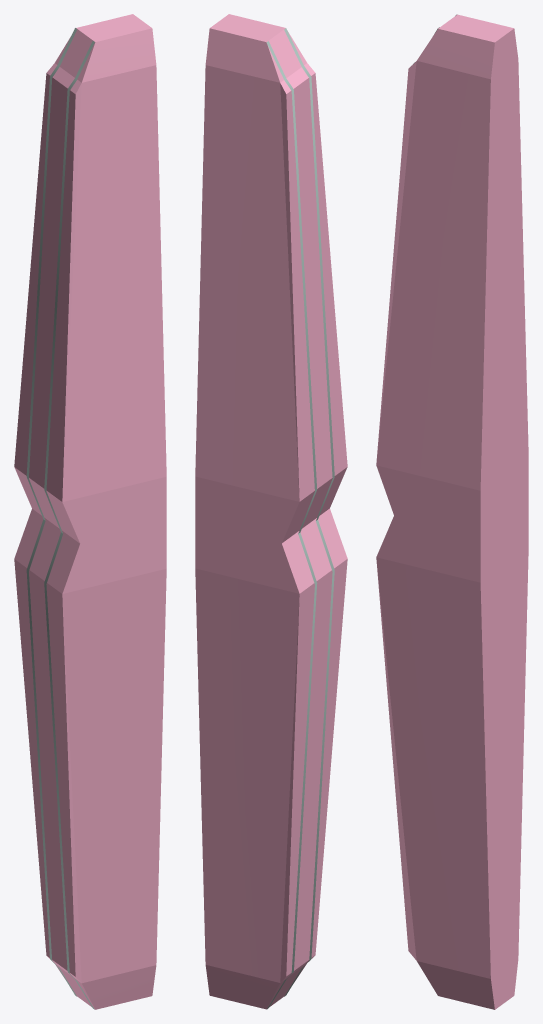
3 renders of one model, left to right at view 1: azimuth 30°, elevation 25°; view 2: azimuth 150°, elevation 25°; view 3: azimuth 330°, elevation 25°, orthographic.
Visible parts, largest first — view 1: Object82; view 2: Object82; view 3: Object82.
Part boxes in pixels (<box>): Object82: <box>14,14,166,1009</box>; Object82: <box>195,14,347,1009</box>; Object82: <box>376,14,528,1009</box>.
Bounding box in the file's own units: 191 × 1669 × 150.
